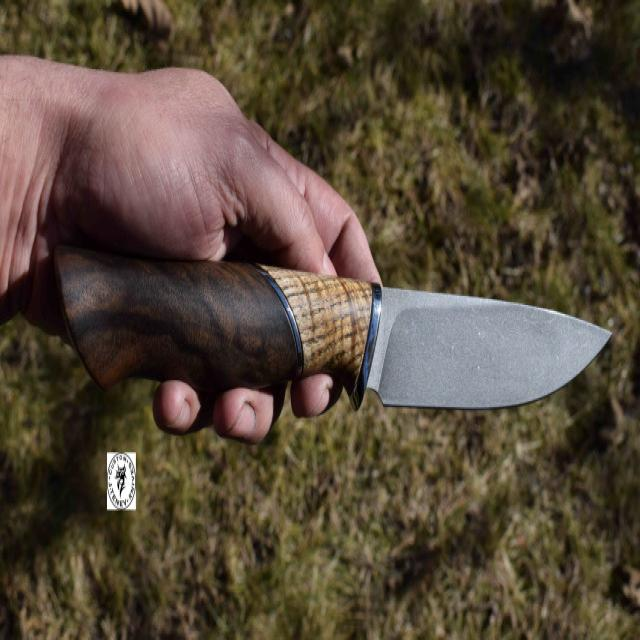knife: (50, 237, 615, 424)
